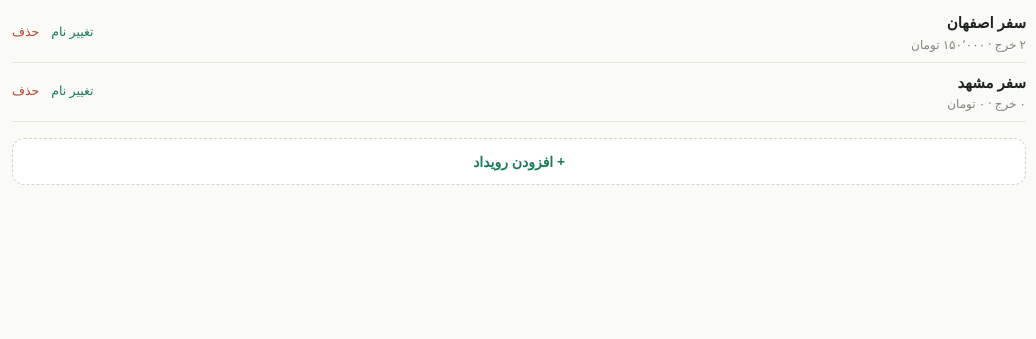
Test: EventsManager › creates an event through the typed client
The width and height of the screenshot is (1036, 339).
Click the button "+ افزودن رویداد": (519, 162) x1=12 y1=138 x2=1026 y2=185
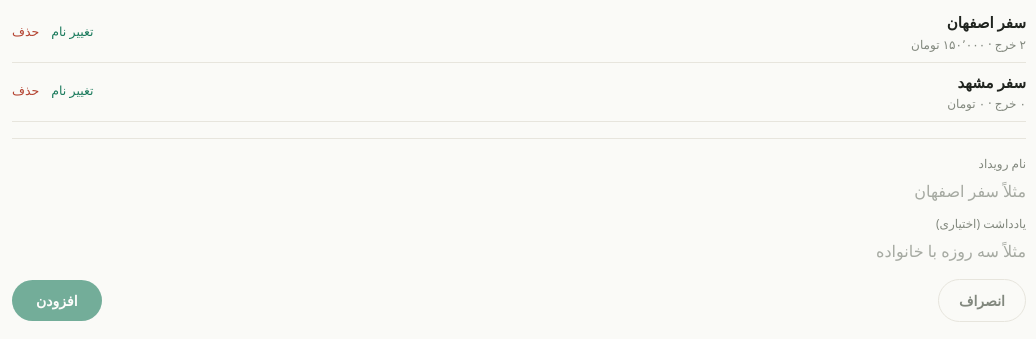
In the field labelled "نام رویداد": (519, 191) x1=12 y1=179 x2=1026 y2=203, type "عروسی"
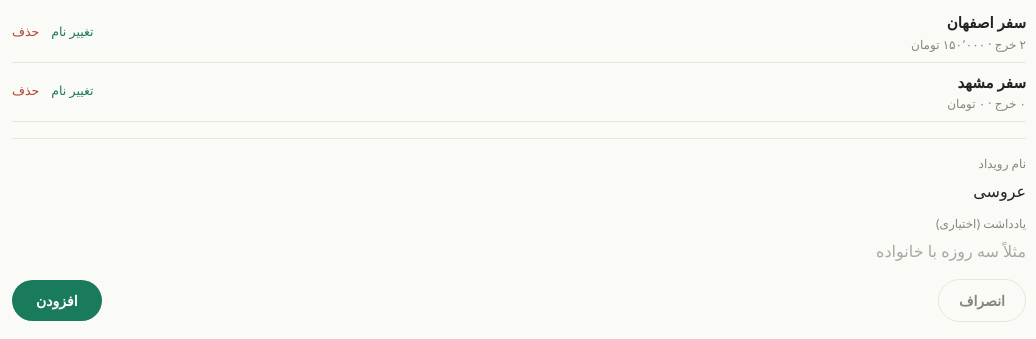
Click the button "افزودن": (57, 300) x1=12 y1=280 x2=102 y2=321
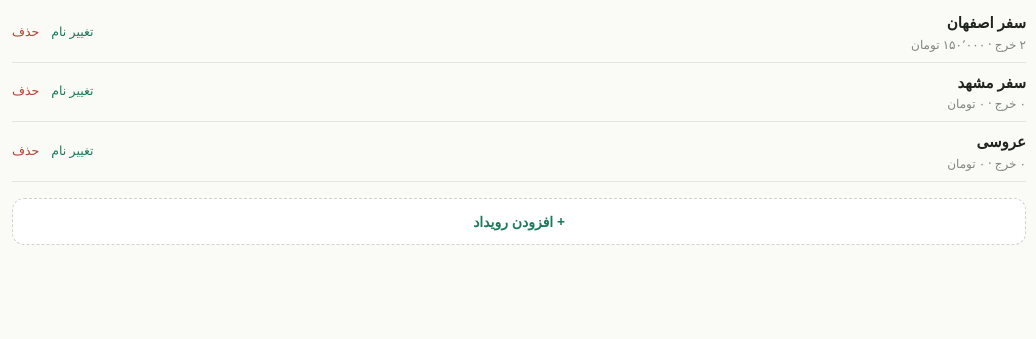
Expected: the text "عروسی" is shown, x1=976 y1=131 x2=1026 y2=151
